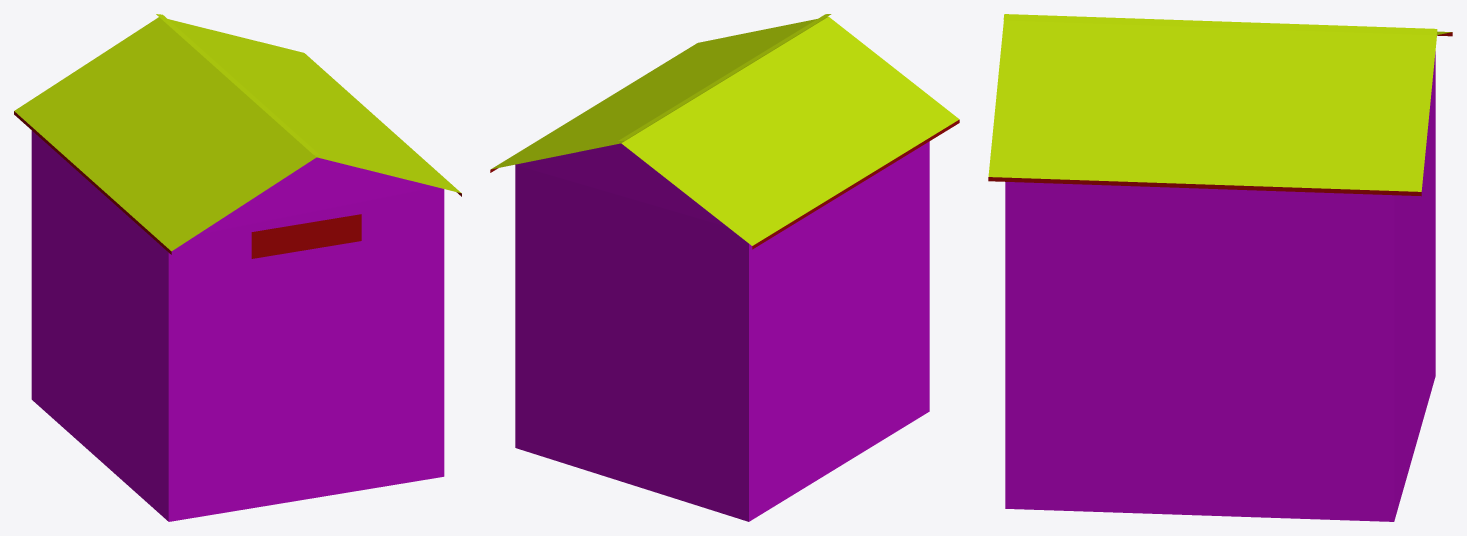
3 renders of one model, left to right at view 1: azimuth 30°, elevation 25°; view 2: azimuth 150°, elevation 25°; view 3: azimuth 270°, elevation 25°, orthographic. The views are drawn at different scales.
Parts seen in each view (by area): view 1: sc_91; view 2: sc_91; view 3: sc_91.
Boxes of the visible parts, left/top/right/bottom form: sc_91: left=14, top=14, right=461, bottom=521; sc_91: left=490, top=14, right=959, bottom=521; sc_91: left=988, top=14, right=1452, bottom=521.
Size of the model in its own units: 10.62 by 11.87 by 11.92.
